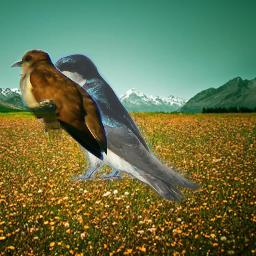Cuckoo: (11, 49, 107, 163)
Swallow: (47, 53, 201, 203)
